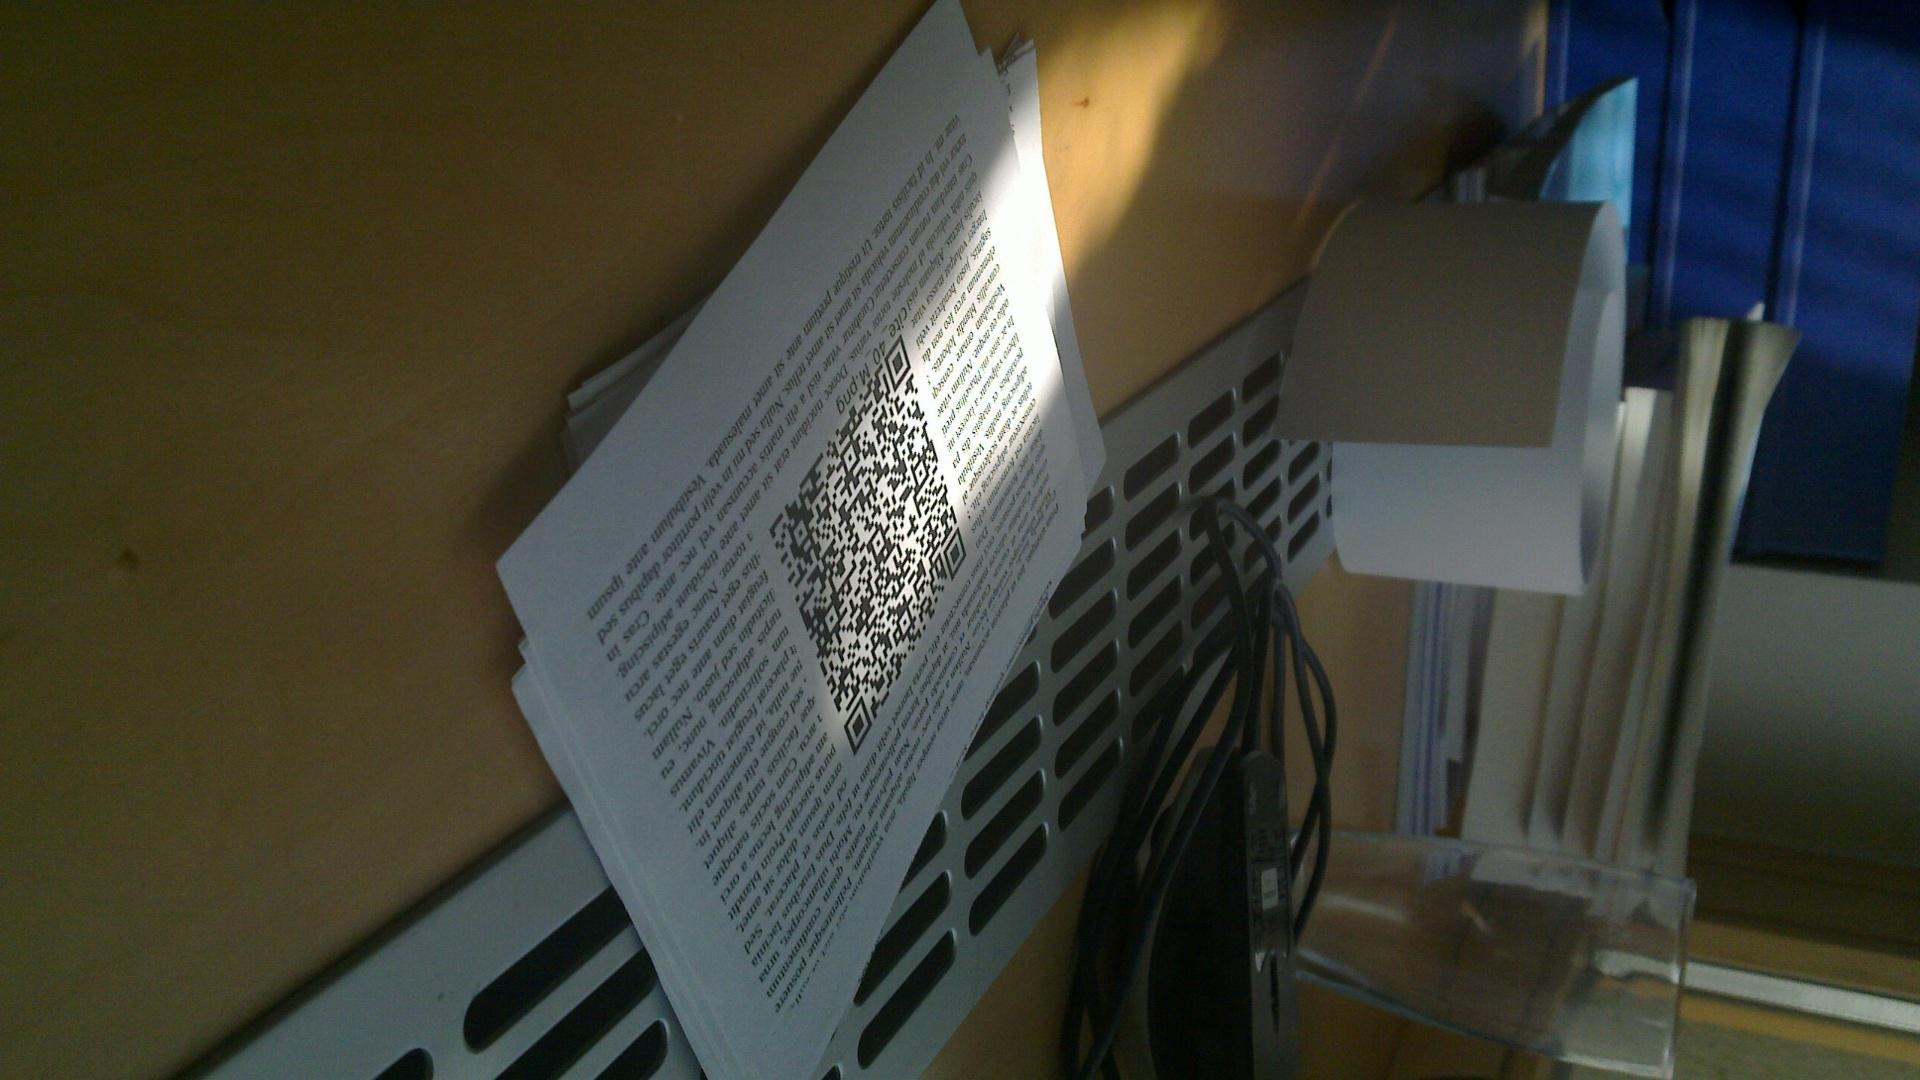Finder pattern: (843, 698, 872, 754), (942, 526, 968, 578), (884, 338, 911, 386)
